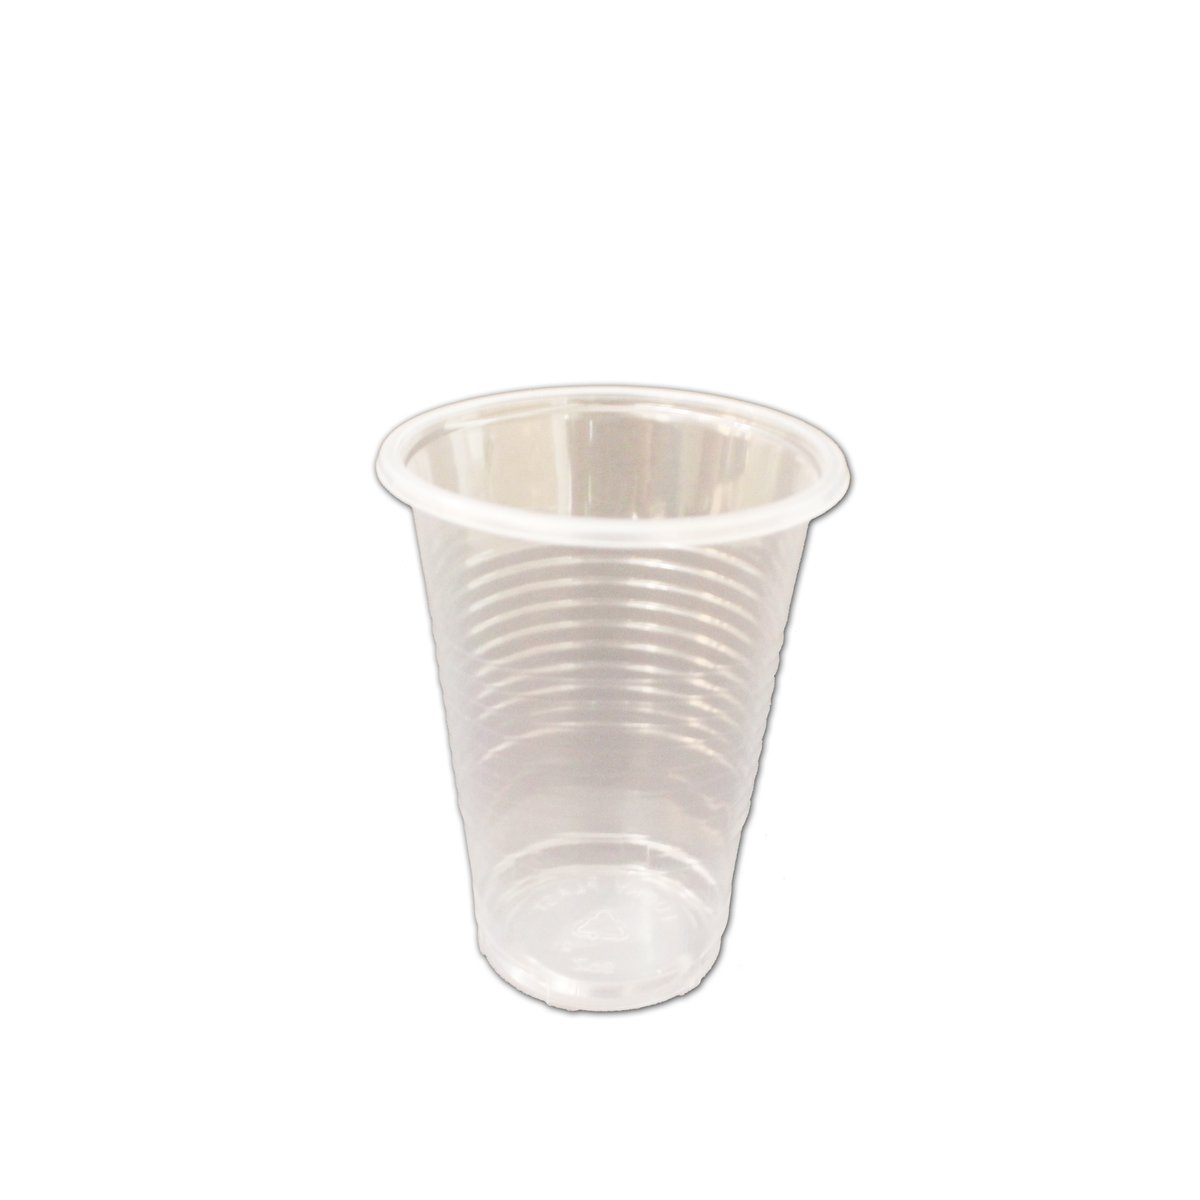plastic_glass: (362, 378, 869, 1031)
